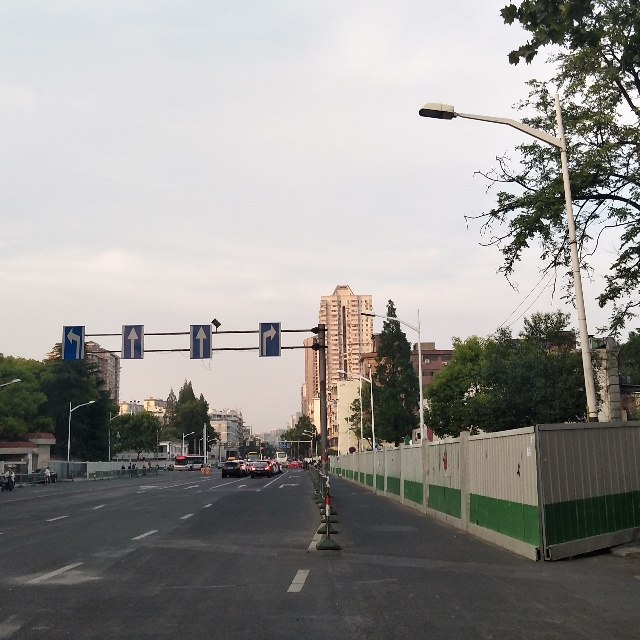left: (60, 324, 90, 364)
right: (258, 322, 286, 363)
straight: (186, 322, 215, 363), (119, 323, 147, 361)
